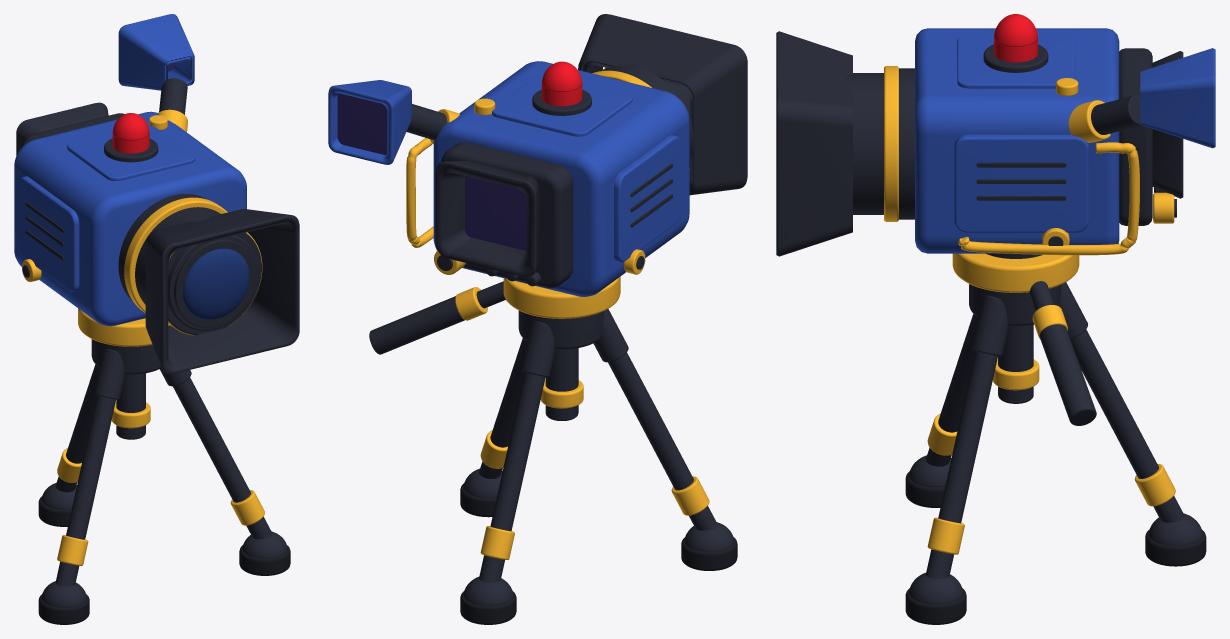
The model's file is StudioCamera.glb.
3 views of the same model, side by side, from view 1: azimuth 30°, elevation 25°; view 2: azimuth 150°, elevation 25°; view 3: azimuth 270°, elevation 25° (orthographic). The views are drawn at different scales.
Parts seen in each view (by area): view 1: CameraBody, SquareLensHood, ViewfinderBlueHood, LeftSidePanel, ConvexLensGlass, TripodLeg_1, TopBluePlate, TripodLeg_2, LensBarrel, OpticalInnerSeat, GoldLensCollar, GoldPanHeadRing (+22 smaller); view 2: CameraBody, SquareLensHood, RearMonitorEyecup, RearMonitorHousing, LeftSidePanel, TripodLeg_3, RearMonitorGlass, TopBluePlate, TripodLeg_1, ViewfinderBlueHood, GoldPanHeadRing, ViewfinderDarkGlass (+23 smaller); view 3: CameraBody, SquareLensHood, RightSidePanel, ViewfinderBlueHood, TripodLeg_2, LensBarrel, TripodLeg_3, TopBluePlate, GoldPanHeadRing, RearMonitorHousing, GoldSideGrip, PanHandleGrip (+25 smaller).
Boxes of the visible parts, left/top/right/bottom form: CameraBody: left=14, top=111, right=246, bottom=326; SquareLensHood: left=145, top=209, right=299, bottom=373; ViewfinderBlueHood: left=118, top=14, right=194, bottom=90; LeftSidePanel: left=18, top=176, right=79, bottom=291; ConvexLensGlass: left=183, top=248, right=249, bottom=319; TripodLeg_1: left=55, top=395, right=115, bottom=586; TopBluePlate: left=67, top=124, right=195, bottom=180; TripodLeg_2: left=173, top=377, right=272, bottom=539; LensBarrel: left=135, top=207, right=261, bottom=334; OpticalInnerSeat: left=174, top=239, right=256, bottom=327; GoldLensCollar: left=124, top=197, right=227, bottom=312; GoldPanHeadRing: left=78, top=308, right=169, bottom=346; CameraBody: left=433, top=61, right=689, bottom=296; SquareLensHood: left=578, top=14, right=747, bottom=195; RearMonitorEyecup: left=435, top=161, right=539, bottom=277; RearMonitorHousing: left=441, top=142, right=573, bottom=288; LeftSidePanel: left=614, top=135, right=680, bottom=262; TripodLeg_3: left=479, top=372, right=545, bottom=582; RearMonitorGlass: left=465, top=176, right=526, bottom=250; TopBluePlate: left=492, top=74, right=632, bottom=136; TripodLeg_1: left=608, top=352, right=717, bottom=530; ViewfinderBlueHood: left=328, top=80, right=411, bottom=164; GoldPanHeadRing: left=503, top=276, right=620, bottom=318; ViewfinderDarkGlass: left=337, top=93, right=387, bottom=154; CameraBody: left=915, top=28, right=1119, bottom=253; SquareLensHood: left=776, top=31, right=852, bottom=256; RightSidePanel: left=954, top=134, right=1088, bottom=232; ViewfinderBlueHood: left=1140, top=48, right=1215, bottom=148; TripodLeg_2: left=926, top=351, right=997, bottom=578; LensBarrel: left=844, top=73, right=883, bottom=214; TripodLeg_3: left=1070, top=329, right=1184, bottom=522; TopBluePlate: left=957, top=34, right=1074, bottom=88; GoldPanHeadRing: left=952, top=253, right=1079, bottom=292; RearMonitorHousing: left=1119, top=48, right=1152, bottom=225; GoldSideGrip: left=958, top=142, right=1139, bottom=255; PanHandleGrip: left=1039, top=324, right=1096, bottom=425.
Size of the model in its own units: 0.7894 by 1.29 by 0.935.
7 materials, 7 textured.
